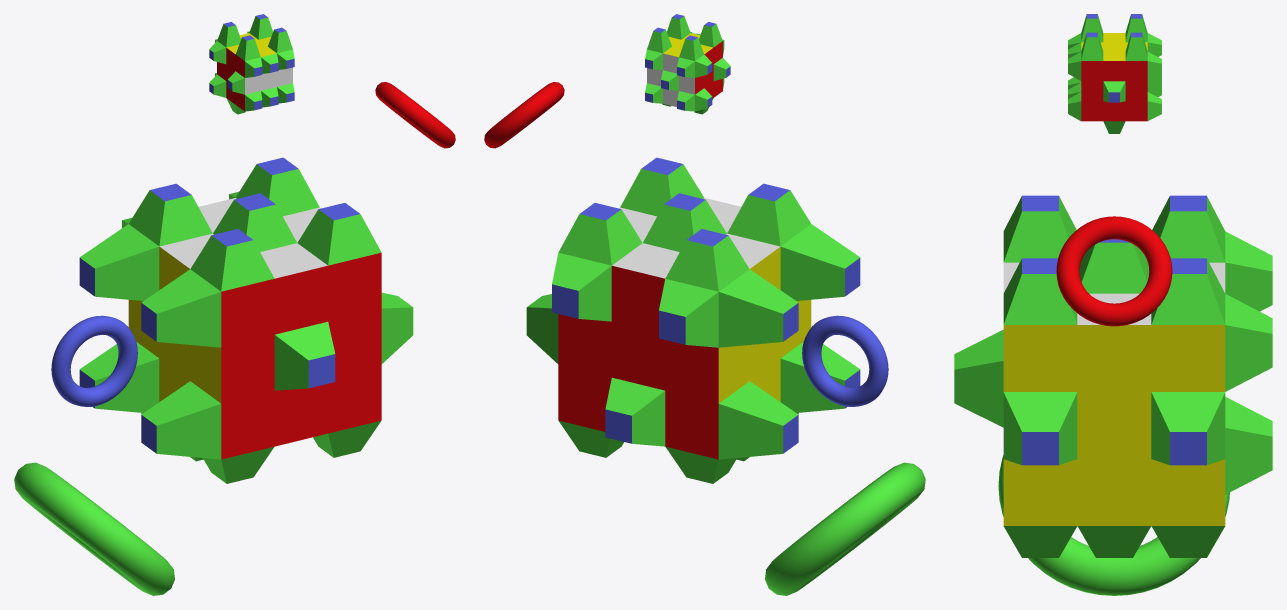
File: achilles test 2.fbx
3 views of the same model, side by side, from view 1: azimuth 30°, elevation 25°; view 2: azimuth 150°, elevation 25°; view 3: azimuth 270°, elevation 25° (orthographic). The views are drawn at different scales.
Parts seen in each view (by area): view 1: Cube, Green Torus, Cube.001, Blue Torus, Red Torus; view 2: Cube, Green Torus, Cube.001, Blue Torus, Red Torus; view 3: Cube, Cube.001, Red Torus, Green Torus.
Part boxes in pixels (x1,y1,x2,y2): Cube: (79,157,413,483); Green Torus: (14,462,174,595); Cube.001: (209,14,294,114); Blue Torus: (51,315,137,406); Red Torus: (375,82,455,148); Cube: (526,157,860,483); Green Torus: (765,462,925,595); Cube.001: (645,14,730,114); Blue Torus: (802,315,888,406); Red Torus: (484,82,564,148); Cube: (954,195,1272,557); Cube.001: (1068,14,1161,133); Red Torus: (1056,216,1172,326); Green Torus: (998,455,1229,595).
Bounding box in the file's own units: 519 × 631 × 287.
